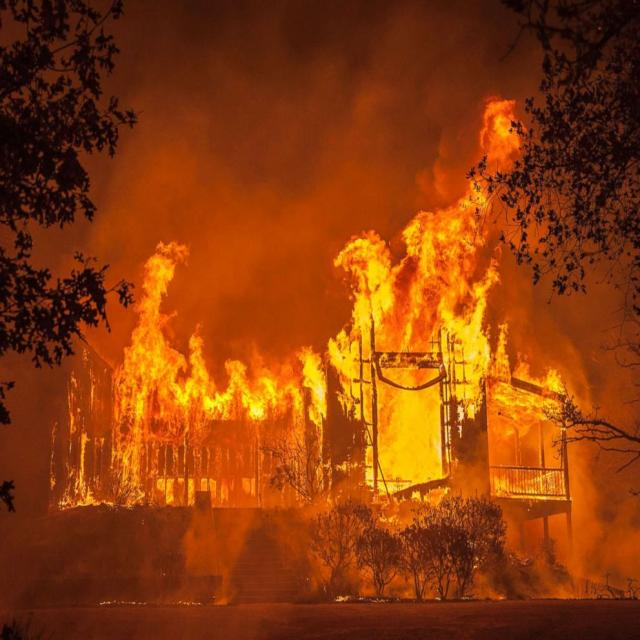Fire: (334, 141, 533, 543), (73, 268, 308, 543)
Smoke: (0, 9, 639, 309)
